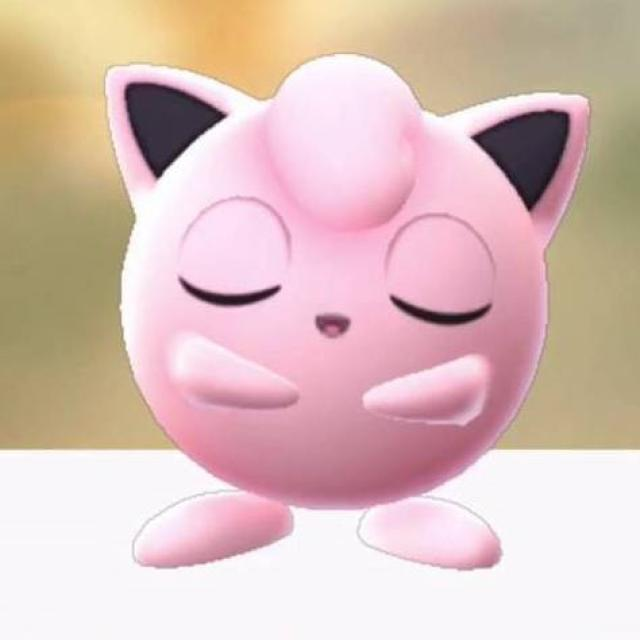Jigglypuff: (84, 42, 600, 600)
